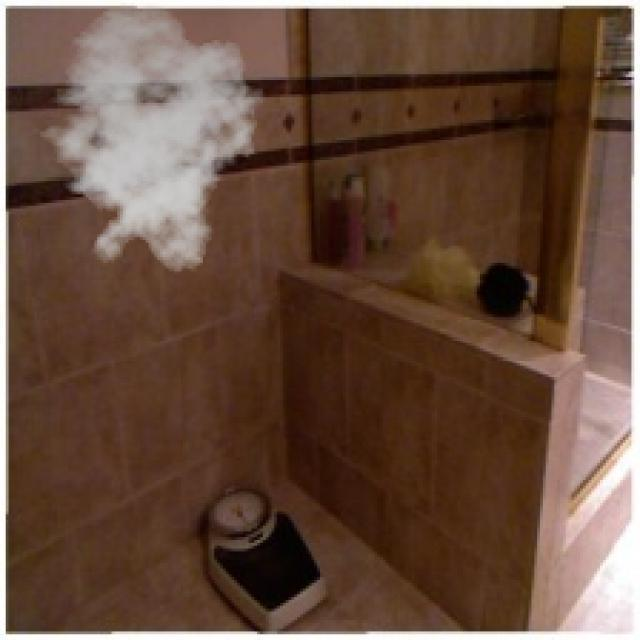Smoke: (28, 2, 272, 274)
